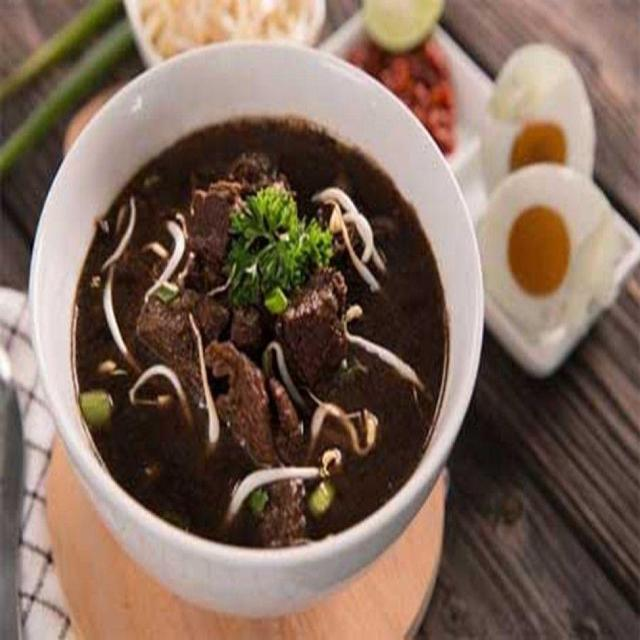Rawon: (59, 120, 453, 540)
